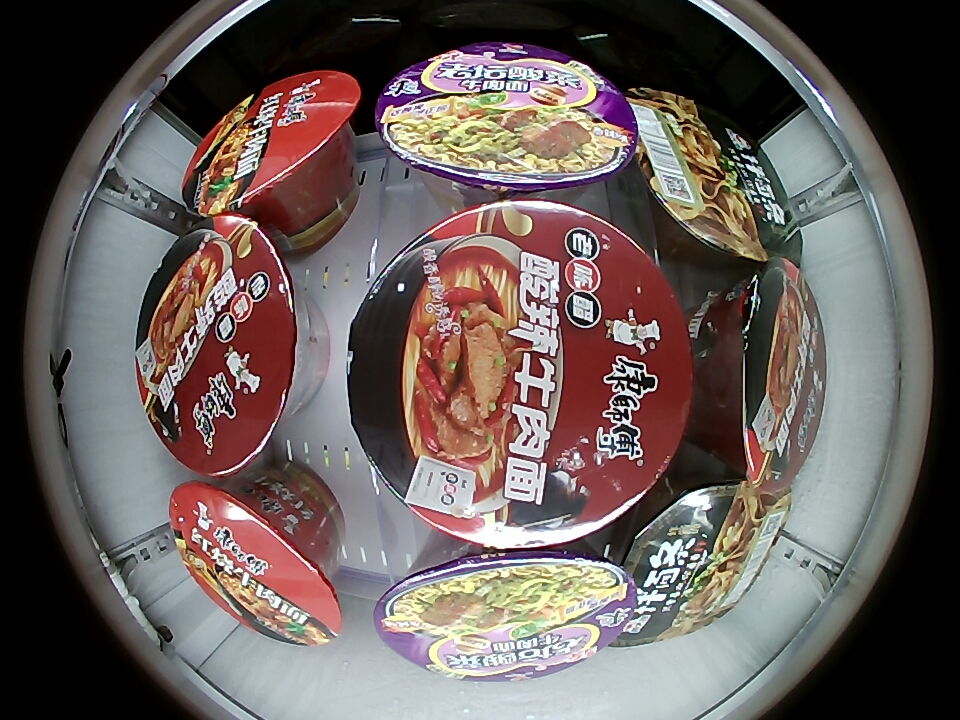gudasao: (623, 86, 803, 266), (617, 484, 793, 648)
hongshaoniurou: (170, 481, 342, 646), (182, 71, 362, 218)
laotansuancai: (374, 42, 640, 203), (372, 541, 634, 681)
suanlaniurou: (344, 202, 695, 550), (135, 217, 304, 477), (704, 260, 826, 488)
